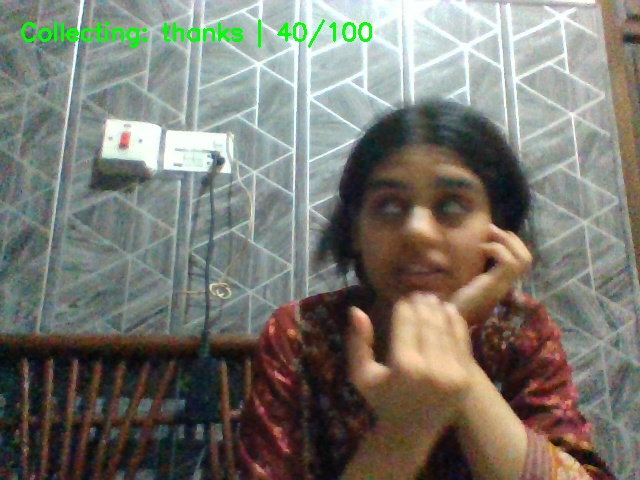thanks: (336, 275, 516, 480)
